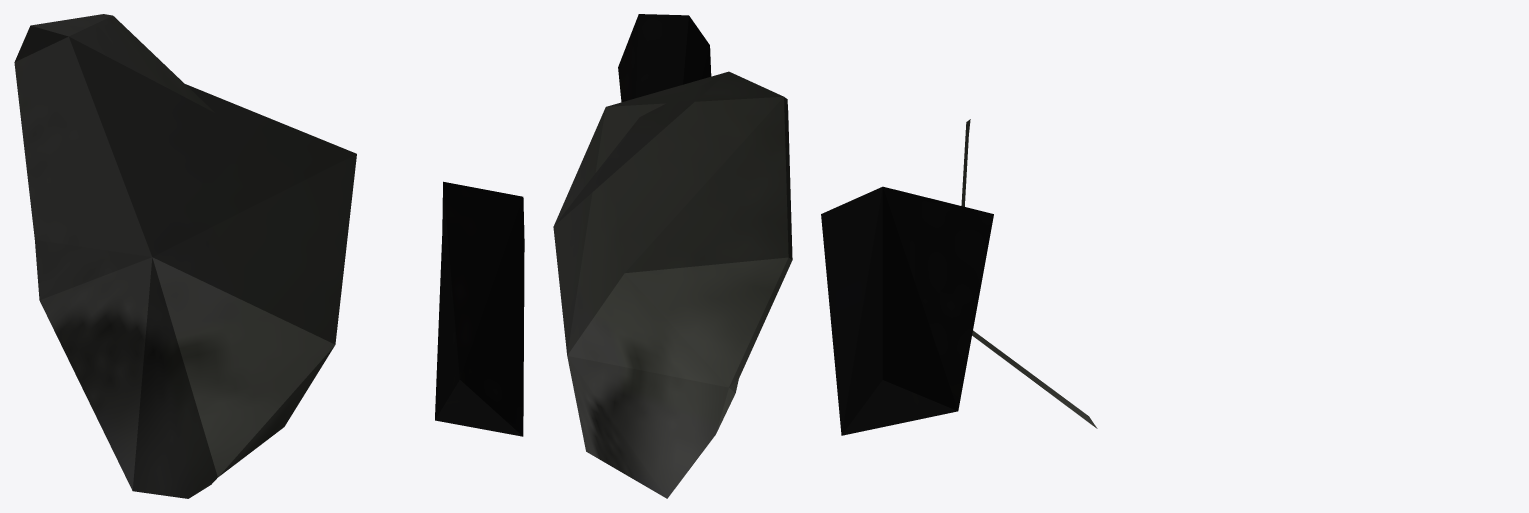
3 views of the same model, side by side, from view 1: azimuth 30°, elevation 25°; view 2: azimuth 150°, elevation 25°; view 3: azimuth 270°, elevation 25° (orthographic). The views are drawn at different scales.
Bounding box in the file's own units: 0.1029 × 0.212 × 0.2749.
Materials: 1 (1 with a texture image).
